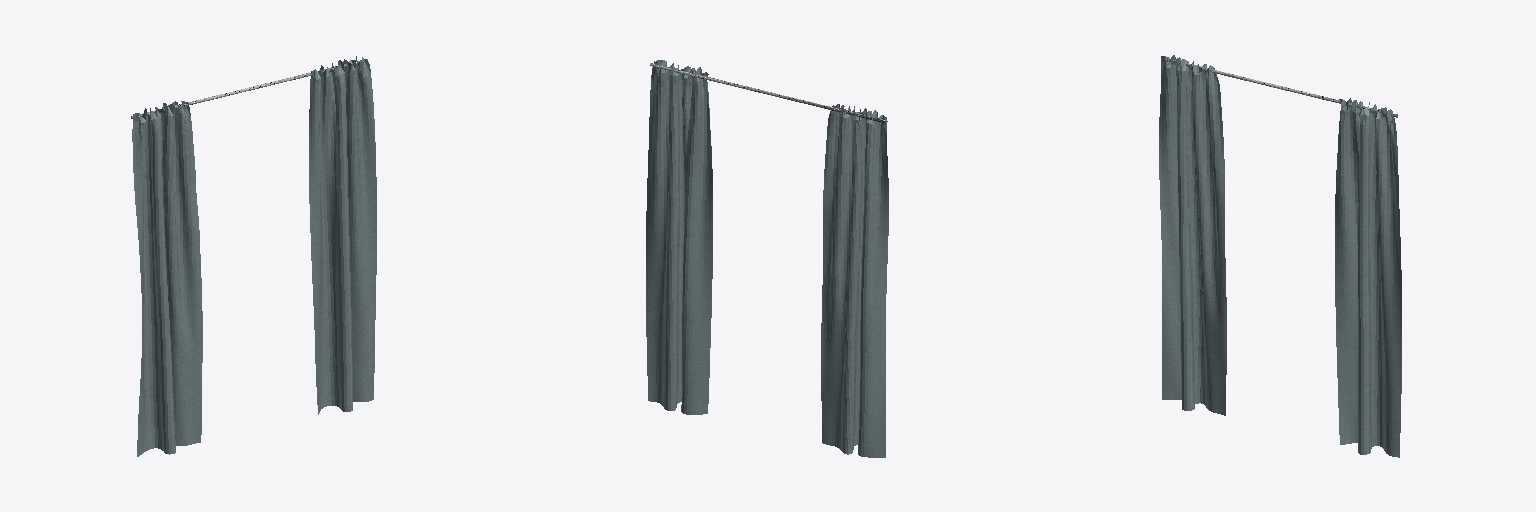
The picture shows the model from 3 angles: view 1: azimuth 30°, elevation 25°; view 2: azimuth 150°, elevation 25°; view 3: azimuth 330°, elevation 25°; orthographic projection.
Visible parts, largest first — view 1: pCylinder4; view 2: pCylinder4; view 3: pCylinder4.
Boxes of the visible parts, x1,y1,x2,y2 form: pCylinder4: [131, 56, 376, 456]; pCylinder4: [646, 60, 888, 457]; pCylinder4: [1159, 55, 1401, 457].
Bounding box in the file's own units: 2.2 × 3 × 0.2124.
2 materials, 2 textured.